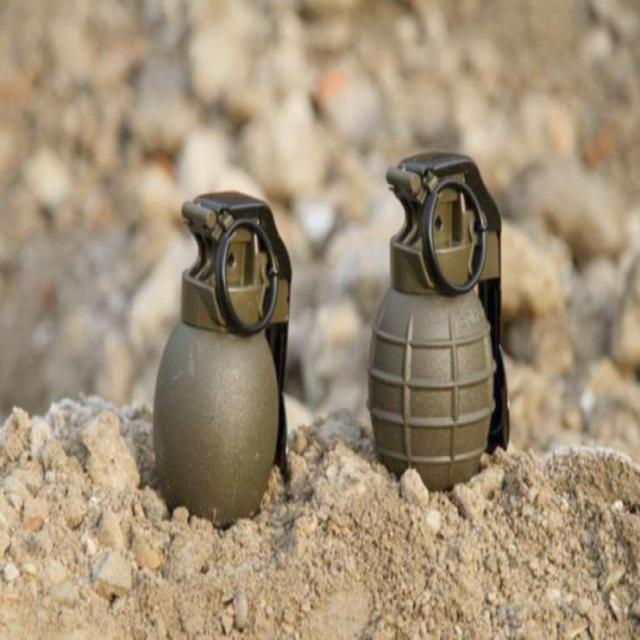grenade: (149, 194, 292, 534), (368, 154, 506, 494)
